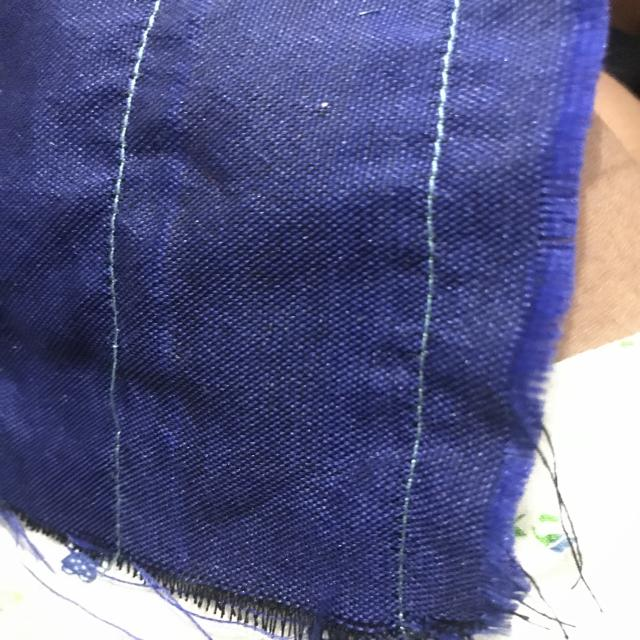good: (91, 194, 136, 294)
skip: (87, 333, 146, 449)
